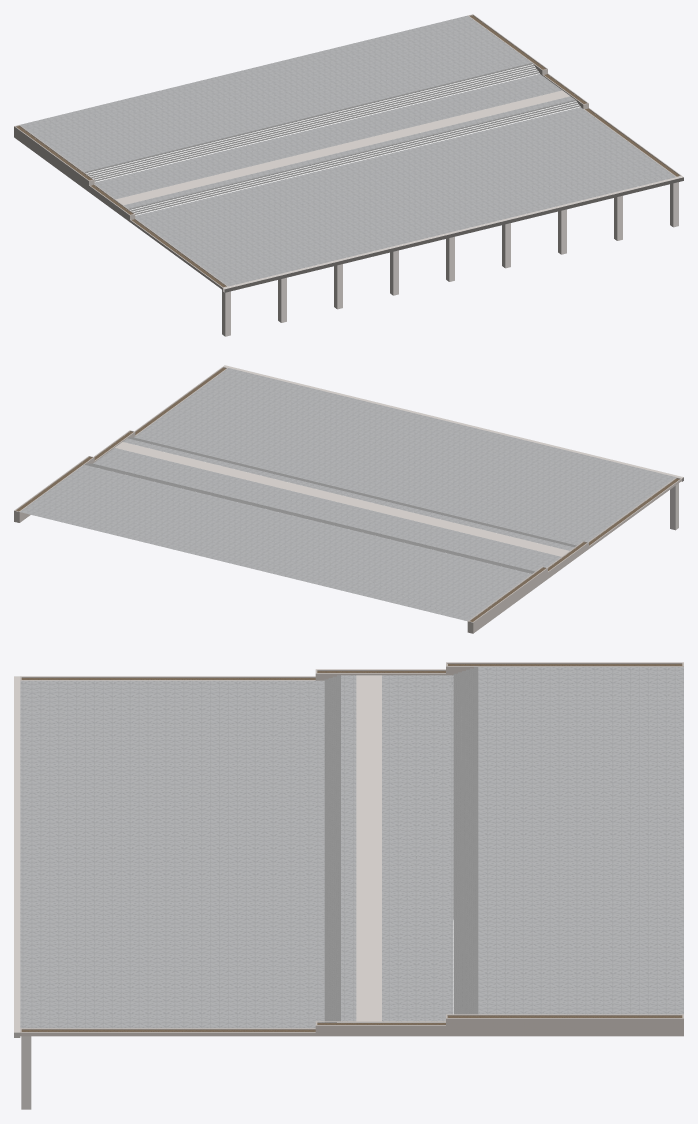
The model's file is pierplatform.glb.
The picture shows the model from 3 angles, top to bottom: view 1: azimuth 30°, elevation 25°; view 2: azimuth 150°, elevation 25°; view 3: azimuth 270°, elevation 25°; orthographic projection. The views are drawn at different scales.
Visible parts, largest first — view 1: pierplatform; view 2: pierplatform; view 3: pierplatform.
Boxes of the visible parts, x1,y1,x2,y2 form: pierplatform: (14, 14, 683, 336); pierplatform: (14, 365, 683, 633); pierplatform: (14, 662, 683, 1109).
Bounding box in the file's own units: 82 × 10 × 65.2.
Materials: 6 (4 with a texture image).
